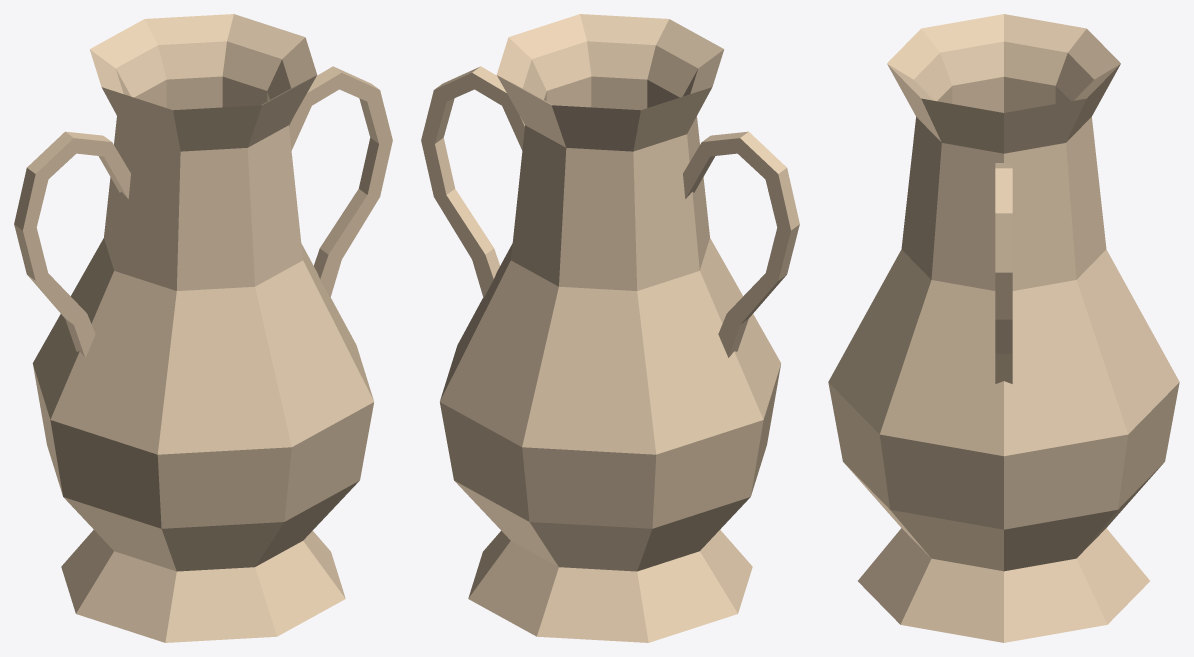
File: Prop_Vase_2.glb
3 renders of one model, left to right at view 1: azimuth 30°, elevation 25°; view 2: azimuth 150°, elevation 25°; view 3: azimuth 270°, elevation 25°, orthographic.
Parts seen in each view (by area): view 1: Sandstone_5; view 2: Sandstone_5; view 3: Sandstone_5.
Part boxes in pixels (left/top/right/bottom): Sandstone_5: left=14, top=14, right=392, bottom=642; Sandstone_5: left=421, top=14, right=799, bottom=642; Sandstone_5: left=828, top=14, right=1179, bottom=642.
Size of the model in its own units: 0.3625 by 0.4875 by 0.3.
